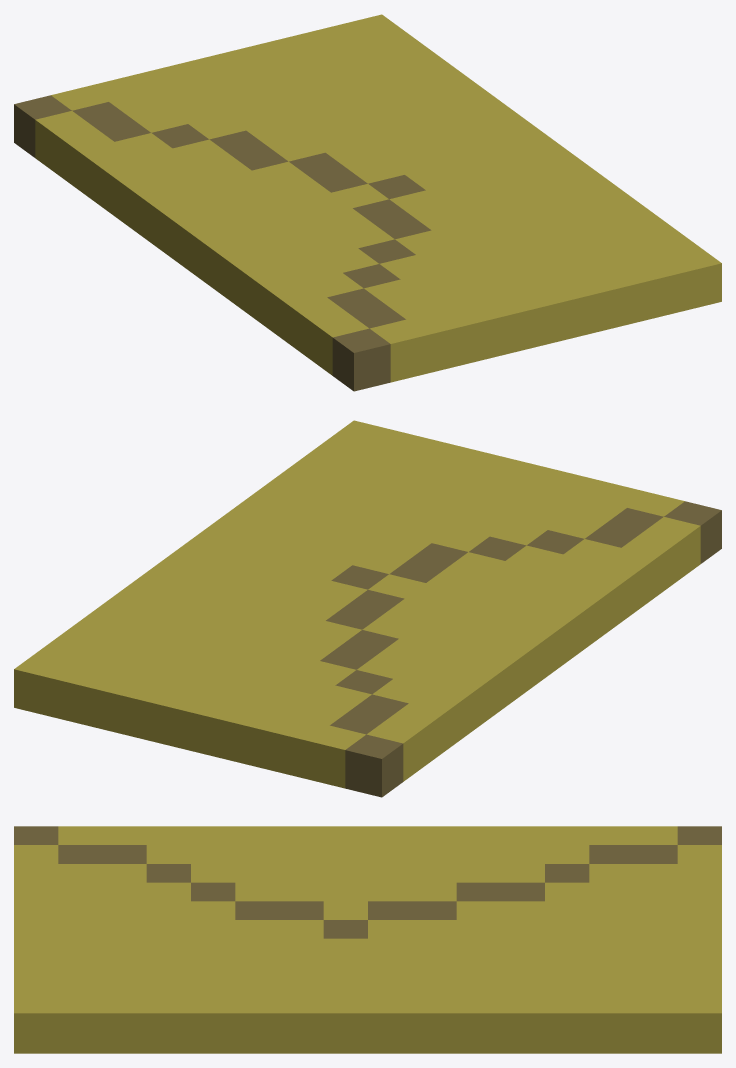
Rendered from carta2.obj.
The picture shows the model from 3 angles, top to bottom: view 1: azimuth 30°, elevation 25°; view 2: azimuth 150°, elevation 25°; view 3: azimuth 270°, elevation 25°; orthographic projection. The views are drawn at different scales.
Bounding box in the file's own units: 1 × 0.1 × 1.6.
1 material, 1 textured.
